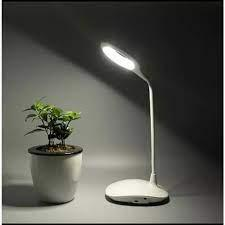Lamp: (96, 34, 180, 217)
